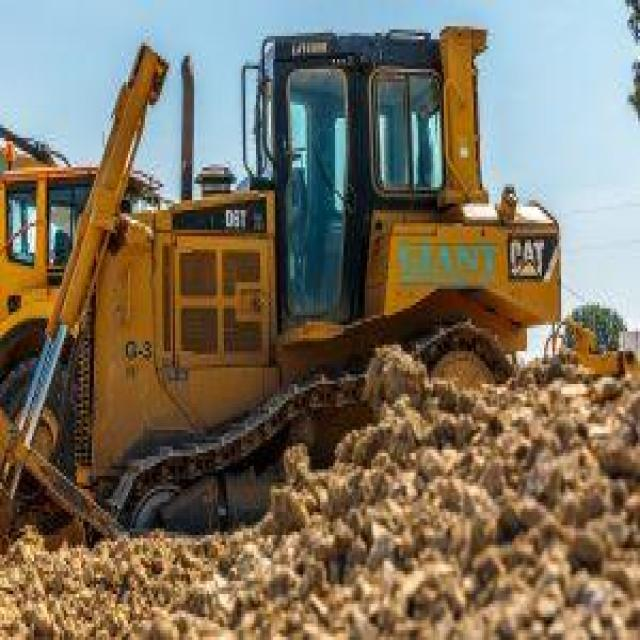buldozerpayloadergrader: (8, 20, 591, 561)
